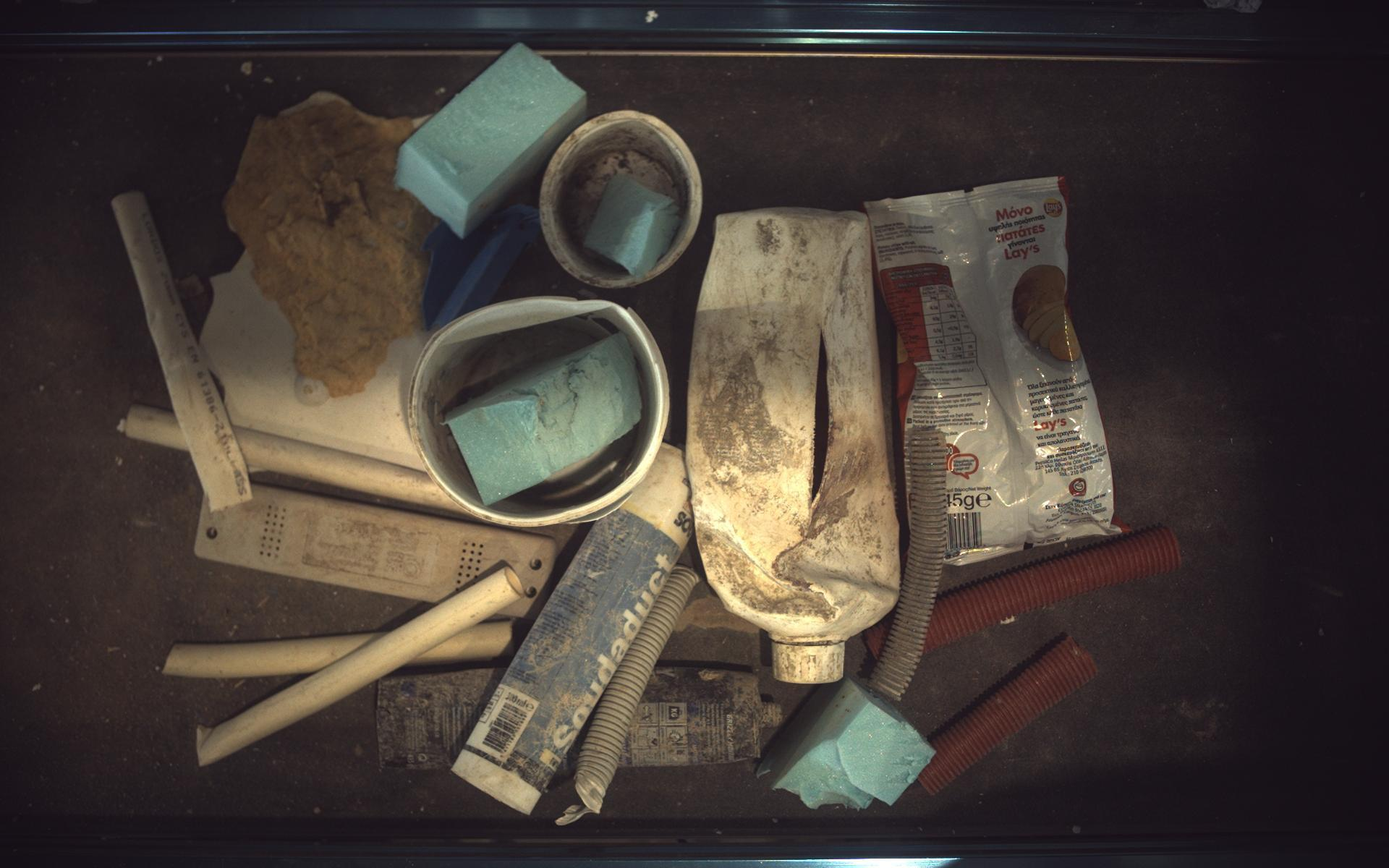foam: (395, 41, 587, 237), (446, 333, 642, 505), (758, 677, 937, 810), (585, 174, 681, 276)
general_w: (868, 176, 1121, 565), (408, 297, 671, 529), (540, 109, 703, 288)
pipes: (197, 568, 524, 767), (110, 191, 250, 511), (927, 527, 1184, 653), (919, 636, 1100, 796), (870, 424, 949, 702), (232, 427, 467, 515), (161, 634, 378, 679), (407, 623, 514, 667), (116, 404, 186, 450), (865, 617, 893, 660)
plastic: (687, 208, 901, 684), (200, 91, 437, 468), (454, 445, 694, 815), (194, 486, 557, 617), (621, 668, 783, 768), (422, 204, 540, 328), (377, 669, 505, 770)
